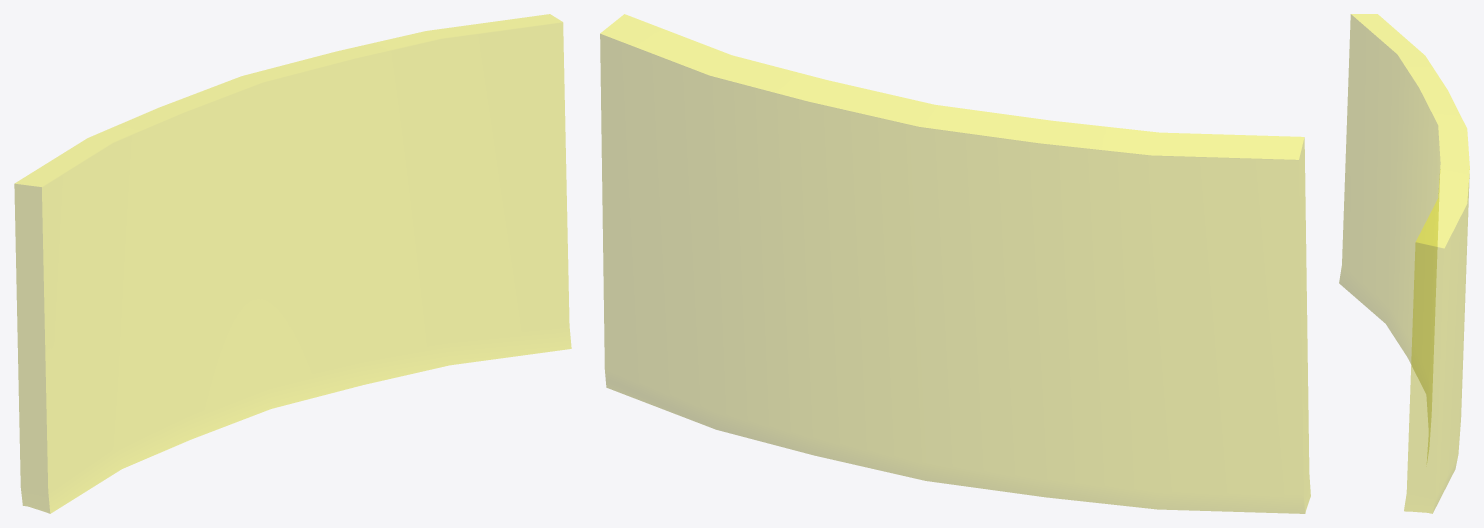
The model's file is display_box_001.gltf.
3 renders of one model, left to right at view 1: azimuth 30°, elevation 25°; view 2: azimuth 150°, elevation 25°; view 3: azimuth 270°, elevation 25°, orthographic. The views are drawn at different scales.
Visible parts, largest first — view 1: Model; view 2: Model; view 3: Model.
Boxes of the visible parts, left/top/right/bottom form: Model: left=14, top=14, right=571, bottom=513; Model: left=600, top=14, right=1310, bottom=513; Model: left=1339, top=14, right=1469, bottom=513.
Size of the model in its own units: 5.65 by 3.02 by 1.33.
